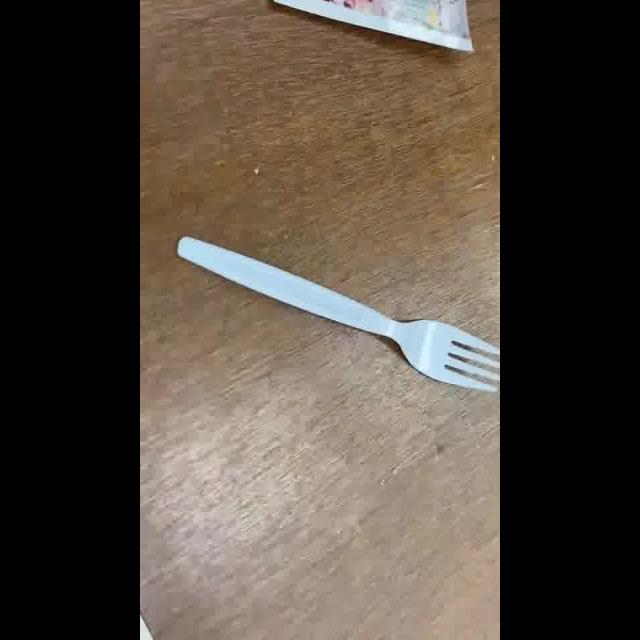plastic_cultery: (175, 235, 499, 393)
